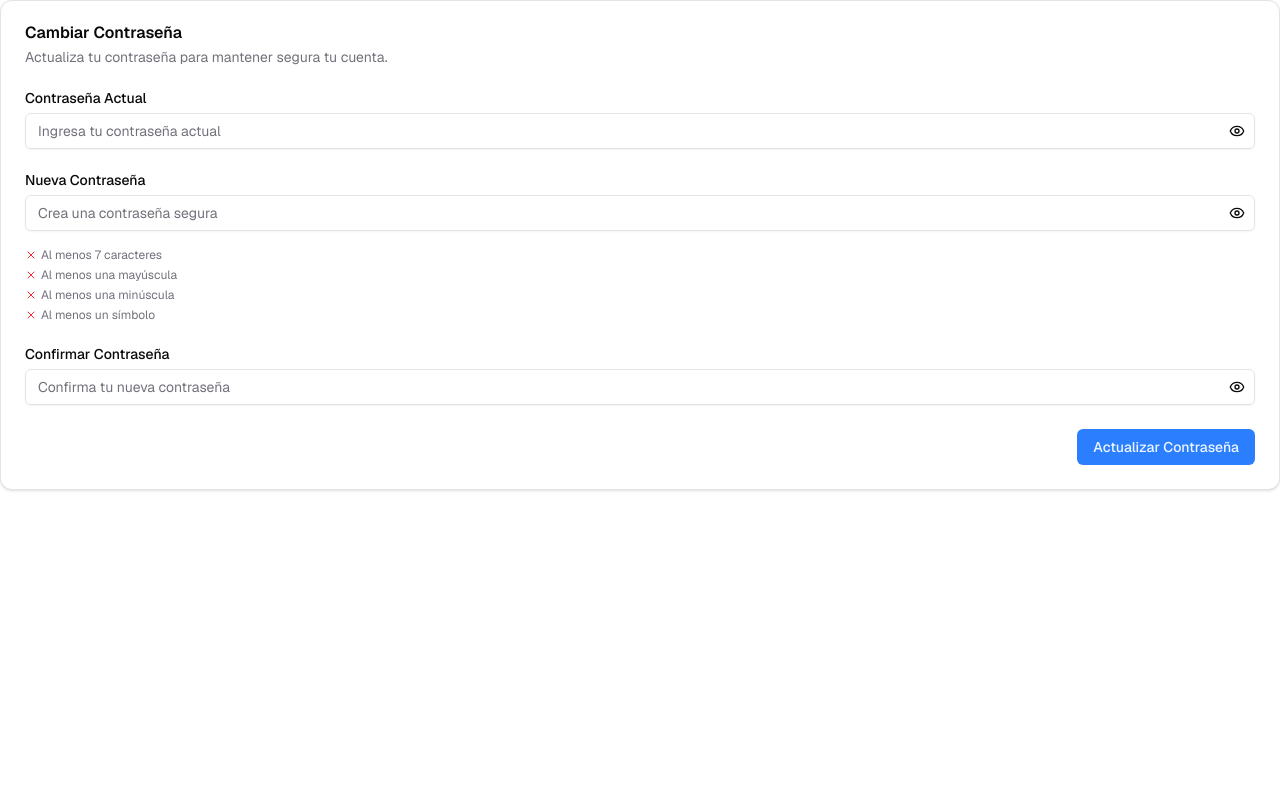
ChangePasswordForm › muestra errores de validación cuando los campos están vacíos
Click the button "Actualizar Contraseña" at (1166, 447), box [1077,429,1255,465]
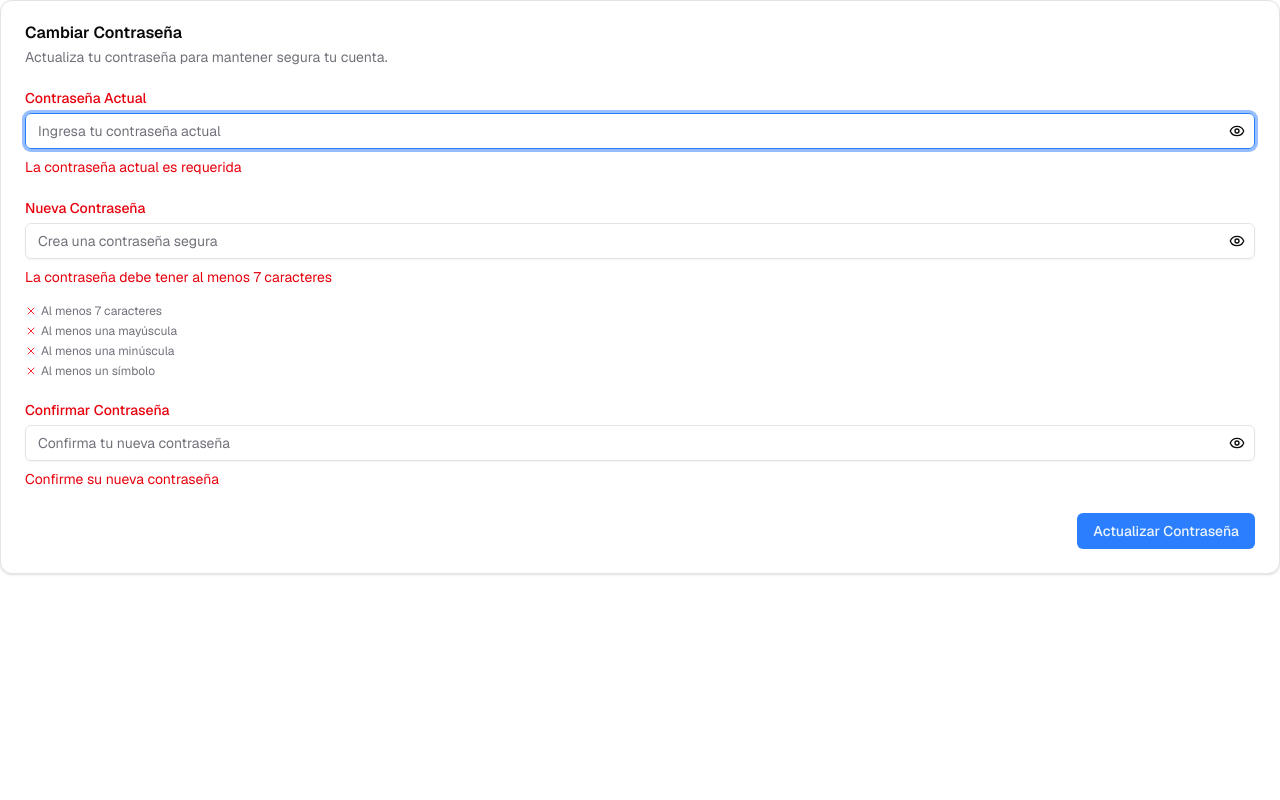
Result: the text "La contraseña actual es requerida" is shown at [25,158,241,176]
